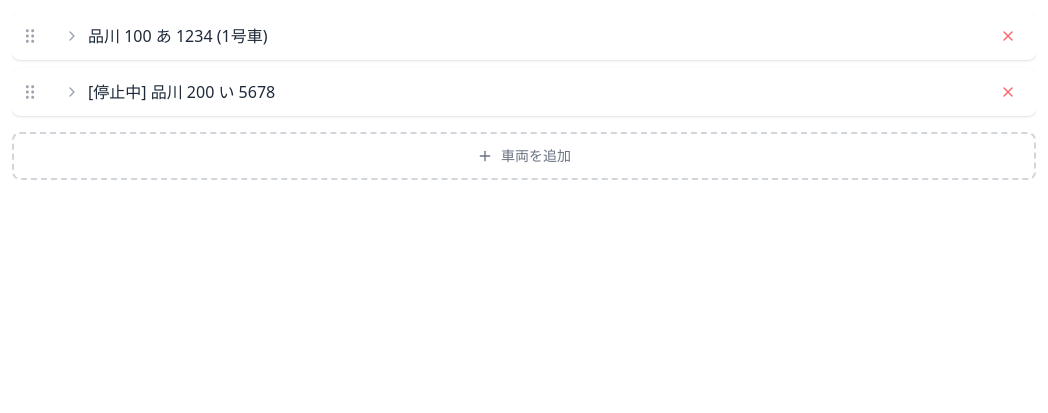
Test case: VehiclesTab › 新規追加: ナンバー空の場合は保存ボタンが disabled
The image size is (1048, 413).
Expected: the text "品川 100 あ 1234 (1号車)" is shown, [88,24,268,48]
Click the button "車両を追加" at (524, 156), box [12,132,1036,180]
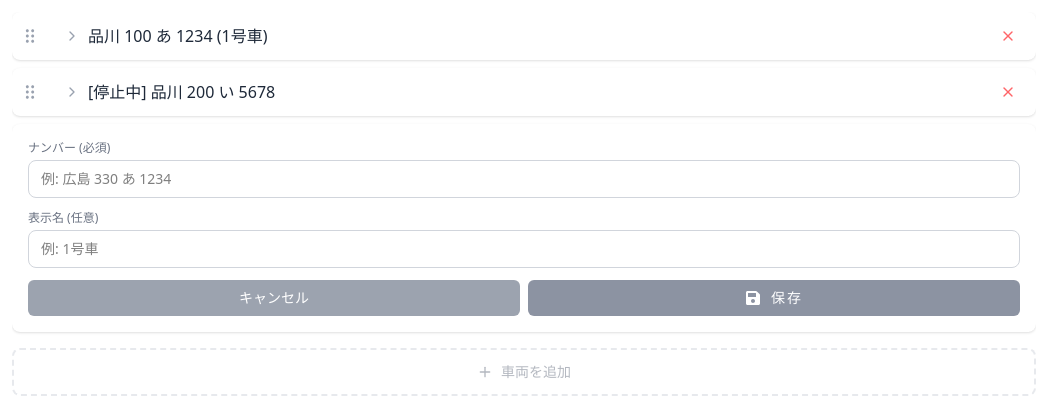
Now the field with placeholder "例: 広島 330 あ 1234" is shown, box [28,160,1020,198]
Now the button "保存" is disabled, box [528,280,1020,316]
